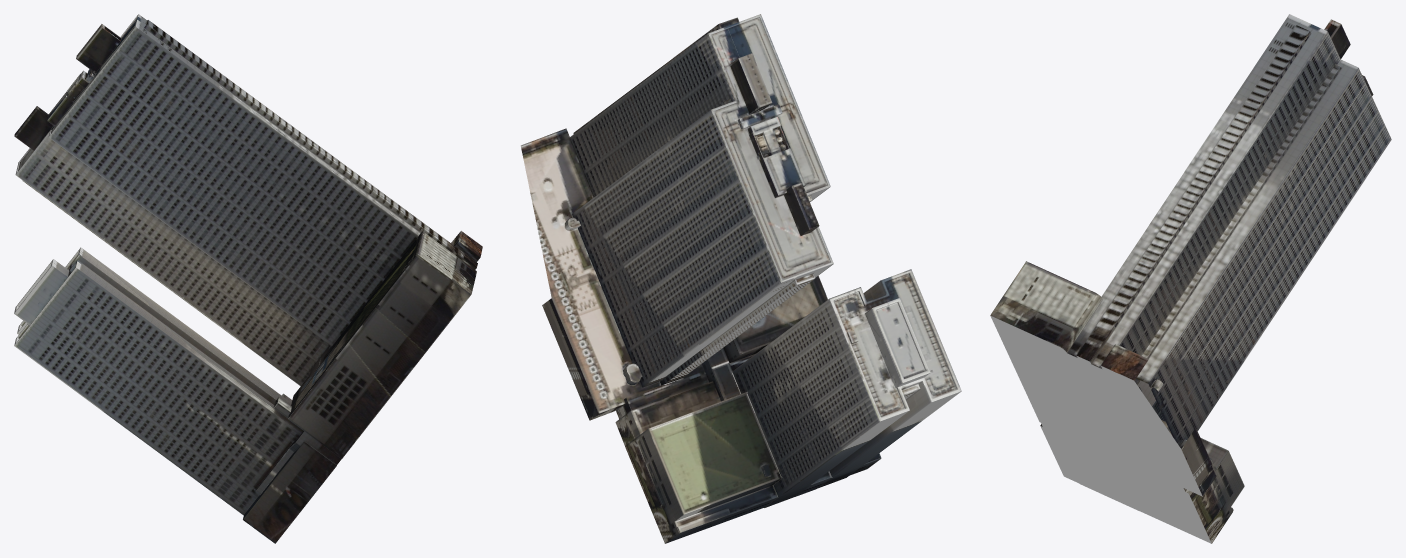
The model's file is 19773_bldg_Building.glb.
The picture shows the model from 3 angles, left to right: view 1: azimuth 30°, elevation 25°; view 2: azimuth 150°, elevation 25°; view 3: azimuth 270°, elevation 25°; orthographic projection. The views are drawn at different scales.
Bounding box in the file's own units: 189 × 206 × 158.
Materials: 3 (2 with a texture image).
